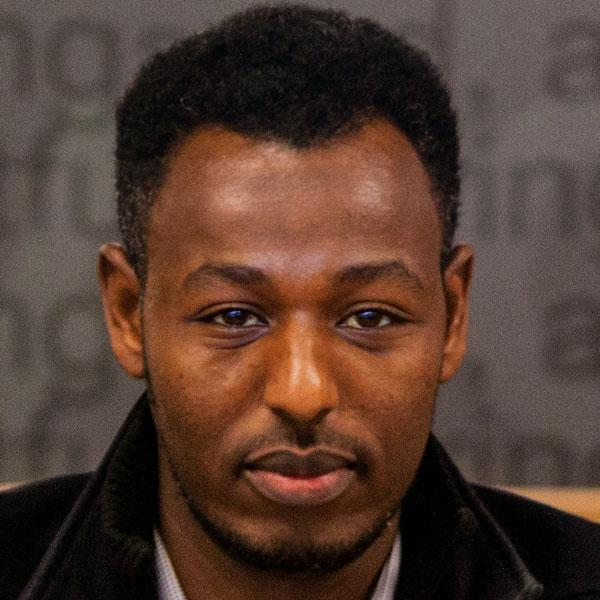Eyes: (186, 288, 275, 348), (330, 291, 414, 349)
